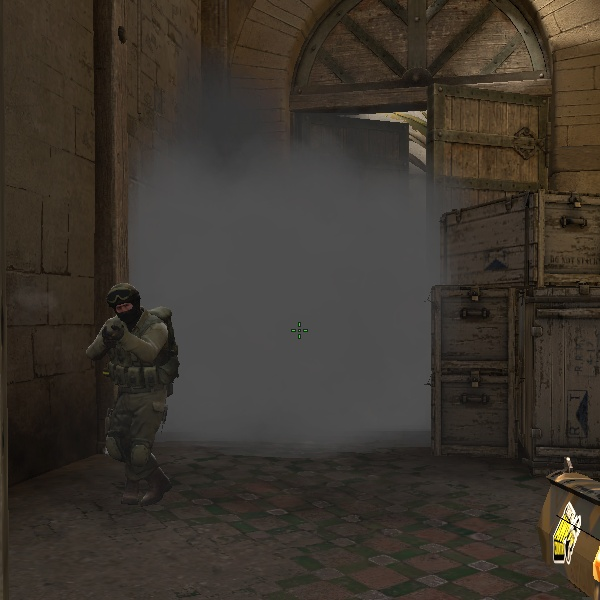ct_body: (72, 276, 186, 512)
ct_head: (102, 283, 149, 329)
